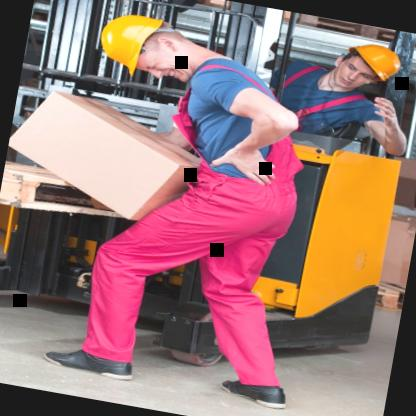helmet: (92, 5, 209, 86), (325, 34, 406, 98)
